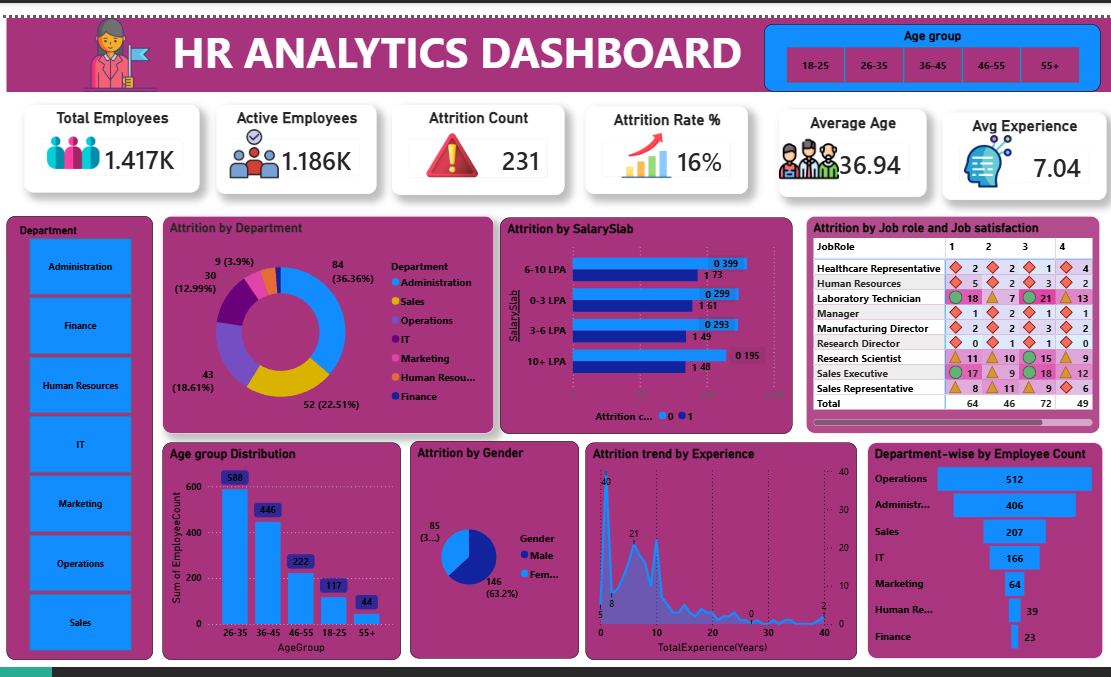

The dashboard page shown, as its layout file describes it:
{"tool":"powerbi","page":{"name":"Page 1","canvas":[1495,1000],"ordinal":0},"visuals":[{"type":"textbox","box":[10,0,280,280],"z":0},{"type":"textbox","box":[10,0,1485,98.3],"z":1000},{"type":"cardVisual","title":"Total Employees","fields":{"Data":["CountNonNull(HR_Analytics-4.EmpID)"]},"box":[33.3,116.7,233.3,116.7],"z":1001},{"type":"cardVisual","title":"Active  Employees","fields":{"Data":["CountNonNull(HR_Analytics-4.EmployeeCount)"]},"box":[290,116.7,213.3,118.3],"z":1002},{"type":"cardVisual","title":"Attrition Count","fields":{"Data":["Sum(HR_Analytics-4.Attrition count)"]},"box":[523.3,116.7,230,120],"z":1003},{"type":"cardVisual","title":"Attrition Rate %","fields":{"Data":["HR_Analytics-4.Attrition Rate %"]},"box":[781.7,118.3,216.7,116.7],"z":1004},{"type":"cardVisual","title":"Average Age","fields":{"Data":["Avg(HR_Analytics-4.Age)"]},"box":[1040,121.7,196.7,116.7],"z":1005},{"type":"cardVisual","title":"Avg Experience","fields":{"Data":["Avg(HR_Analytics-4.YearsatCompany)"]},"box":[1258.3,125,218.3,116.7],"z":1006},{"type":"image","box":[63.3,133.3,70,91.7],"z":1007},{"type":"image","box":[301.7,146.7,76.7,70],"z":1008},{"type":"image","box":[570,148.3,68.3,70],"z":1009},{"type":"image","box":[828.3,150,70,66.7],"z":1010},{"type":"image","box":[1040,141.7,80,91.7],"z":1011},{"type":"image","box":[1276.7,155,85,70],"z":1012},{"type":"donutChart","title":"Attrition by Department","fields":{"Category":["HR_Analytics-4.Department"],"Y":["Sum(HR_Analytics-4.Attrition count)"]},"box":[218,264,442,290],"z":1013},{"type":"clusteredBarChart","title":"Attrition by SalarySlab","fields":{"Category":["HR_Analytics-4.SalarySlab"],"Y":["CountNonNull(HR_Analytics-4.EmpID)"],"Series":["HR_Analytics-4.Attrition count"]},"box":[668.3,265,390,288.3],"z":1014},{"type":"pivotTable","title":"Attrition by Job role and Job satisfaction","fields":{"Rows":["HR_Analytics-4.JobRole"],"Columns":["HR_Analytics-4.JobSatisfaction"],"Values":["Sum(HR_Analytics-4.Attrition count)"]},"box":[1076,264,400,290],"z":1015},{"type":"clusteredColumnChart","title":"Age group Distribution","fields":{"Category":["HR_Analytics-4.AgeGroup"],"Y":["Sum(HR_Analytics-4.EmployeeCount)"]},"box":[218,566,318,290],"z":1016},{"type":"pieChart","title":"Attrition  by Gender","fields":{"Category":["HR_Analytics-4.Gender"],"Y":["Sum(HR_Analytics-4.Attrition count)"]},"box":[548.3,563.3,225,290],"z":1017},{"type":"areaChart","title":"Attrition trend by Experience","fields":{"Category":["HR_Analytics-4.TotalExperience(Years)"],"Y2":["Sum(HR_Analytics-4.Attrition count)"]},"box":[782,566,362,290],"z":1018},{"type":"funnel","title":" Department-wise by Employee Count","fields":{"Category":["HR_Analytics-4.Department"],"Y":["CountNonNull(HR_Analytics-4.EmpID)"]},"box":[1158,566,318,288],"z":1019},{"type":"slicer","fields":{"Values":["HR_Analytics-4.Department"]},"box":[10,263.3,195,591.7],"z":1020},{"type":"slicer","title":"Age group","fields":{"Values":["HR_Analytics-4.AgeGroup"]},"box":[1020,8.3,448.3,90],"z":1021},{"type":"image","box":[46.7,0,231.7,98.3],"z":1022}]}

Visuals, with their boxes on the page's 1495x1000 design canvas (x1, y1, x2, y2). These are canvas units, not pixel positions in the 1111x677 screenshot, which may show the page scaled, cropped or inside an application window:
textbox: bbox=(10, 0, 290, 280)
textbox: bbox=(10, 0, 1495, 98)
"Total Employees" cardVisual: bbox=(33, 117, 267, 233)
"Active  Employees" cardVisual: bbox=(290, 117, 503, 235)
"Attrition Count" cardVisual: bbox=(523, 117, 753, 237)
"Attrition Rate %" cardVisual: bbox=(782, 118, 998, 235)
"Average Age" cardVisual: bbox=(1040, 122, 1237, 238)
"Avg Experience" cardVisual: bbox=(1258, 125, 1477, 242)
image: bbox=(63, 133, 133, 225)
image: bbox=(302, 147, 378, 217)
image: bbox=(570, 148, 638, 218)
image: bbox=(828, 150, 898, 217)
image: bbox=(1040, 142, 1120, 233)
image: bbox=(1277, 155, 1362, 225)
"Attrition by Department" donutChart: bbox=(218, 264, 660, 554)
"Attrition by SalarySlab" clusteredBarChart: bbox=(668, 265, 1058, 553)
"Attrition by Job role and Job satisfaction" pivotTable: bbox=(1076, 264, 1476, 554)
"Age group Distribution" clusteredColumnChart: bbox=(218, 566, 536, 856)
"Attrition  by Gender" pieChart: bbox=(548, 563, 773, 853)
"Attrition trend by Experience" areaChart: bbox=(782, 566, 1144, 856)
" Department-wise by Employee Count" funnel: bbox=(1158, 566, 1476, 854)
slicer - HR_Analytics-4.Department: bbox=(10, 263, 205, 855)
"Age group" slicer: bbox=(1020, 8, 1468, 98)
image: bbox=(47, 0, 278, 98)
